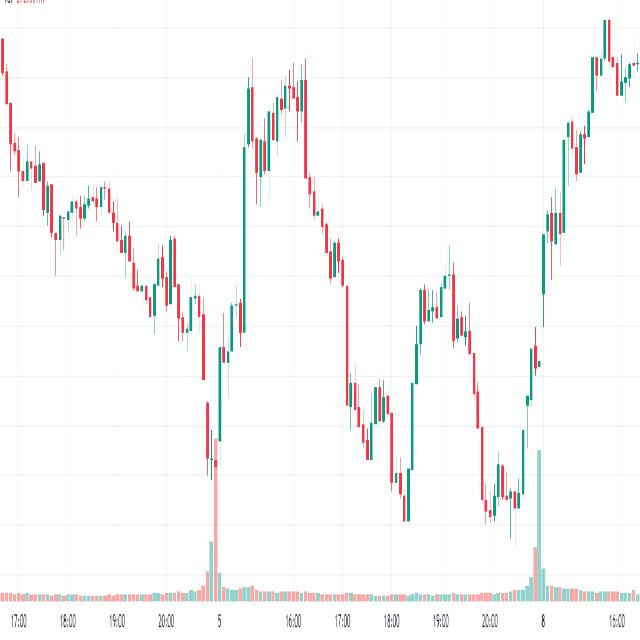Head-Shoulders: (408, 231, 490, 459)
